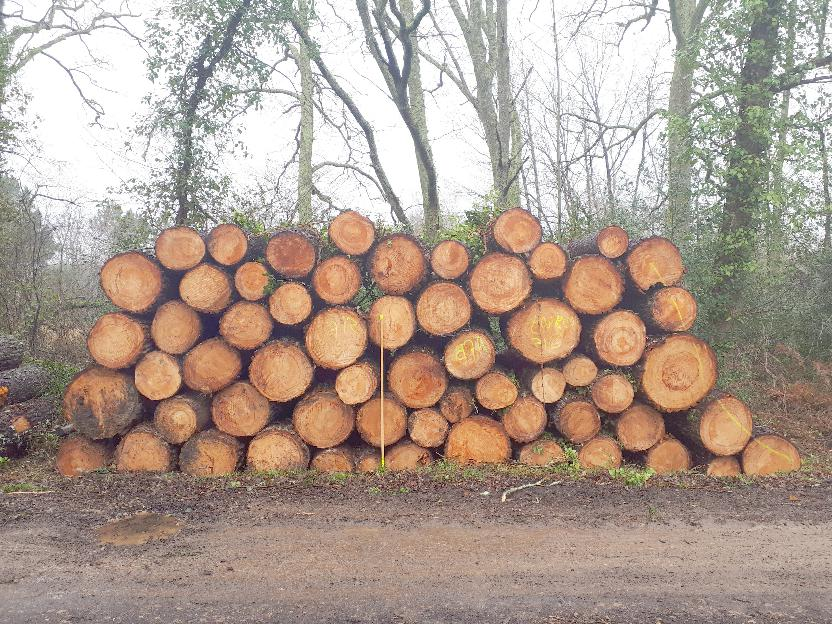etalon: (380, 315, 386, 469)
object: (62, 362, 145, 434), (641, 332, 715, 410), (506, 296, 580, 364), (300, 304, 368, 370), (249, 339, 317, 403), (207, 380, 275, 440), (470, 251, 532, 315), (742, 425, 804, 489), (101, 249, 167, 309), (444, 415, 512, 470), (566, 255, 626, 317), (700, 392, 756, 458), (292, 392, 356, 448), (364, 236, 427, 292), (627, 232, 687, 290), (386, 352, 448, 408), (364, 293, 419, 356), (179, 339, 241, 394), (89, 310, 145, 364), (489, 205, 547, 257), (416, 283, 470, 337), (152, 298, 202, 354), (644, 281, 700, 329), (219, 301, 275, 349), (181, 432, 239, 477), (327, 209, 379, 259), (594, 313, 644, 365), (444, 331, 496, 381), (149, 225, 207, 269), (263, 232, 318, 278), (178, 265, 230, 313), (249, 428, 304, 472), (613, 404, 663, 452), (360, 399, 410, 445), (115, 430, 170, 470), (310, 259, 362, 301), (136, 350, 181, 398), (57, 437, 110, 477), (266, 281, 312, 325), (156, 397, 200, 443), (650, 436, 696, 479), (590, 371, 638, 411), (336, 362, 378, 406), (504, 399, 548, 441), (556, 400, 602, 440), (474, 373, 520, 411), (425, 240, 470, 278), (208, 222, 248, 264), (575, 436, 623, 470), (529, 242, 569, 282), (532, 362, 568, 406), (230, 262, 272, 298), (407, 409, 449, 445), (594, 224, 632, 262), (380, 448, 430, 473), (703, 457, 743, 485), (565, 356, 599, 388), (440, 388, 472, 421), (515, 442, 567, 460), (312, 452, 350, 473), (358, 457, 378, 470)
pile: (55, 180, 796, 490)
